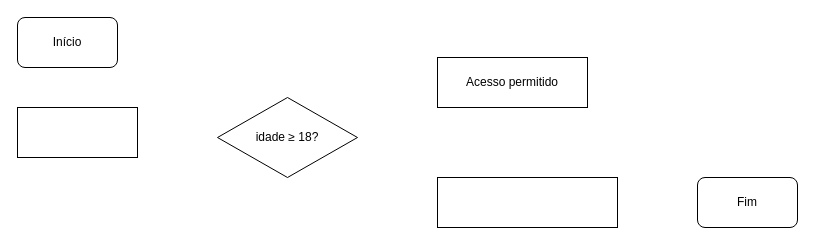
This 815x245 diagram has some shape labels left out. Each missing label, with the centre of its shape:
Ler idade: the point at 77,132
Verificação concluída: the point at 527,202
